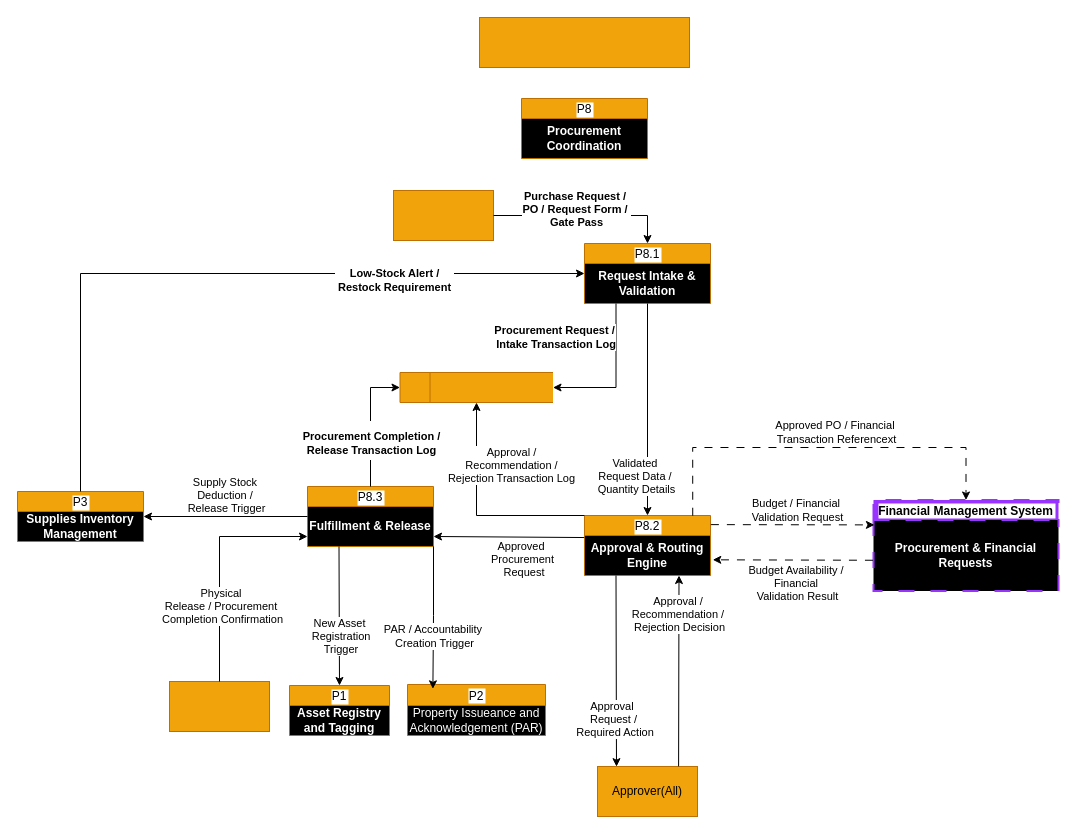
This 1077x834 diagram has some shape labels left out. Here are the shapes that lost their labels. From the top down, the centre of each, then its label:
At point (584, 42): "DATA FLOW DIAGRAMS LEVEL 2".
At point (443, 215): "Requester".
At point (476, 387): "D4 Transaction & Log".
At point (219, 706): "PPMO staff".
